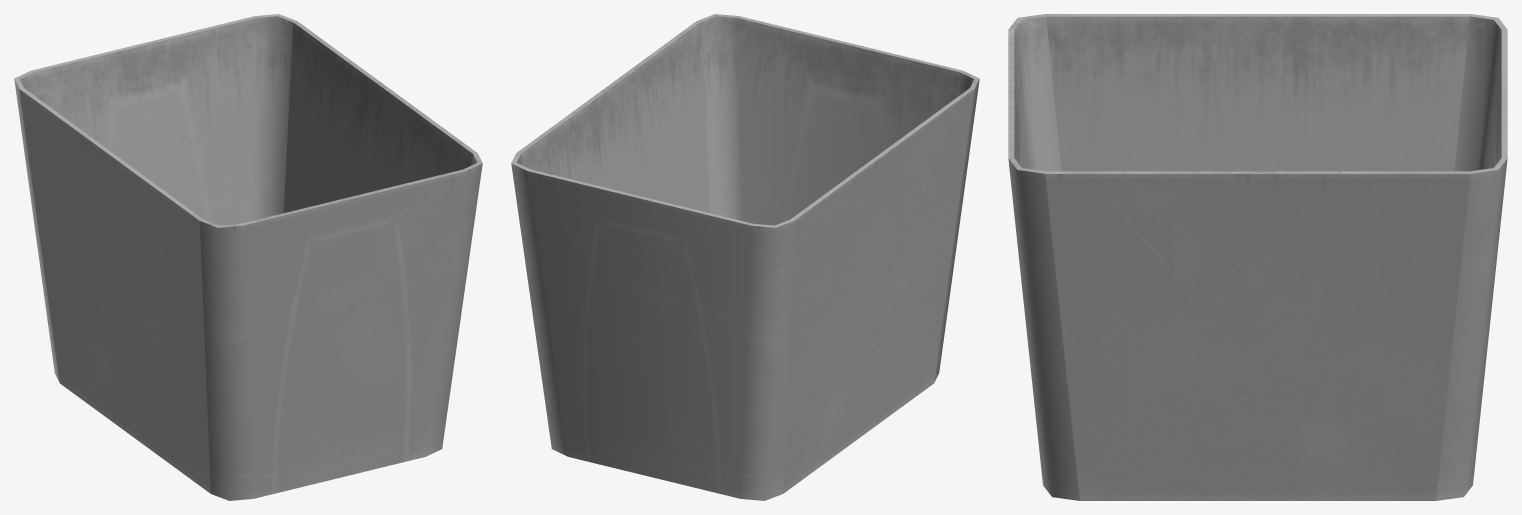
The model's file is GarageBoxEmpty.FBX.
The picture shows the model from 3 angles, left to right: view 1: azimuth 30°, elevation 25°; view 2: azimuth 150°, elevation 25°; view 3: azimuth 270°, elevation 25°; orthographic projection. The views are drawn at different scales.
Parts seen in each view (by area): view 1: GarageBoxEmpty; view 2: GarageBoxEmpty; view 3: GarageBoxEmpty.
Part boxes in pixels (x1,y1,x2,y2): GarageBoxEmpty: (14,14,482,500); GarageBoxEmpty: (511,14,979,500); GarageBoxEmpty: (1008,14,1507,500).
Size of the model in its own units: 35.08 by 35 by 46.31.
